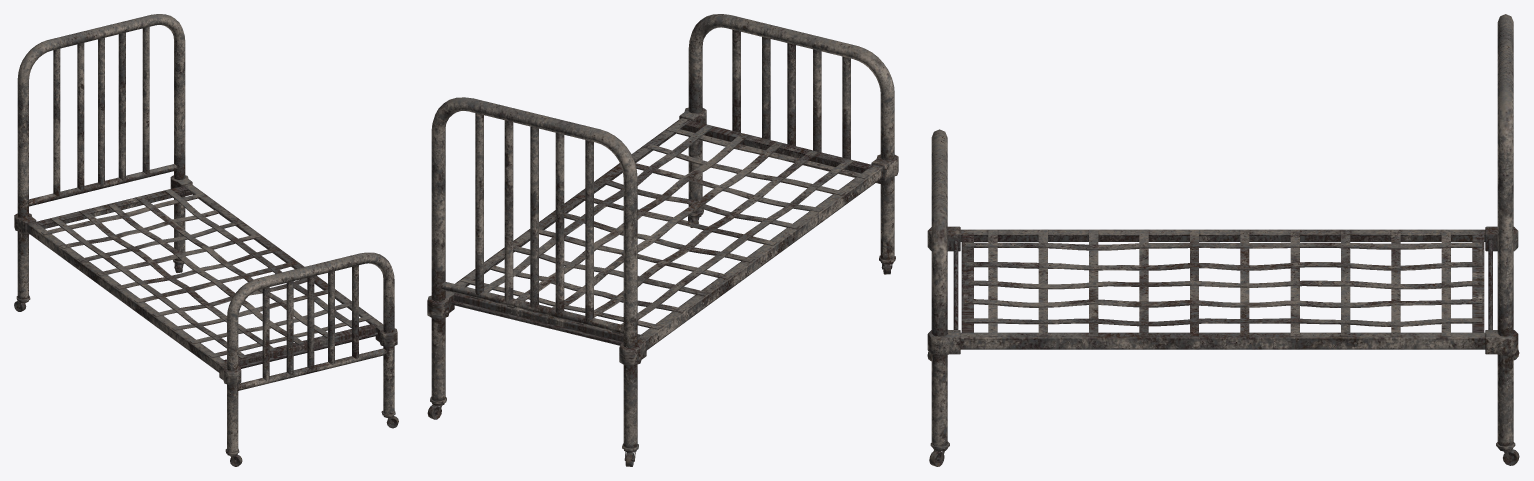
File: bk_hospital_bed.glb
3 views of the same model, side by side, from view 1: azimuth 30°, elevation 25°; view 2: azimuth 150°, elevation 25°; view 3: azimuth 270°, elevation 25° (orthographic). The views are drawn at different scales.
Visible parts, largest first — view 1: Old Hospital Bed; view 2: Old Hospital Bed; view 3: Old Hospital Bed.
Part boxes in pixels (x1,y1,x2,y2): Old Hospital Bed: (14,14,398,466); Old Hospital Bed: (427,14,898,466); Old Hospital Bed: (927,14,1519,466).
Size of the model in its own units: 1.06 by 1.57 by 2.34.
Materials: 1 (1 with a texture image).
